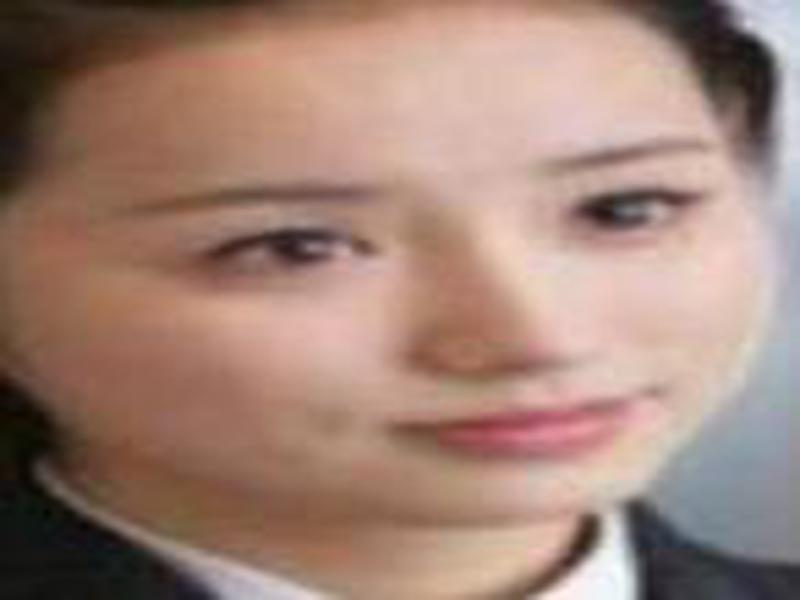without_mask: (16, 21, 766, 516)
